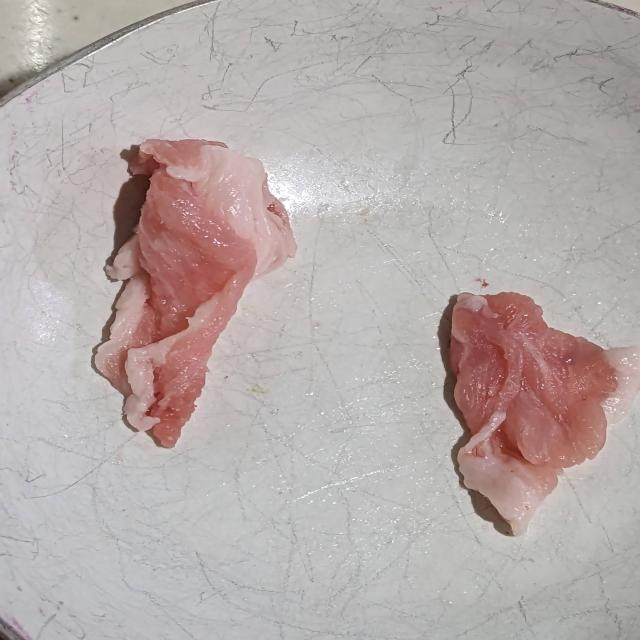NG raw pork,: (87, 138, 309, 453), (442, 287, 640, 550)
